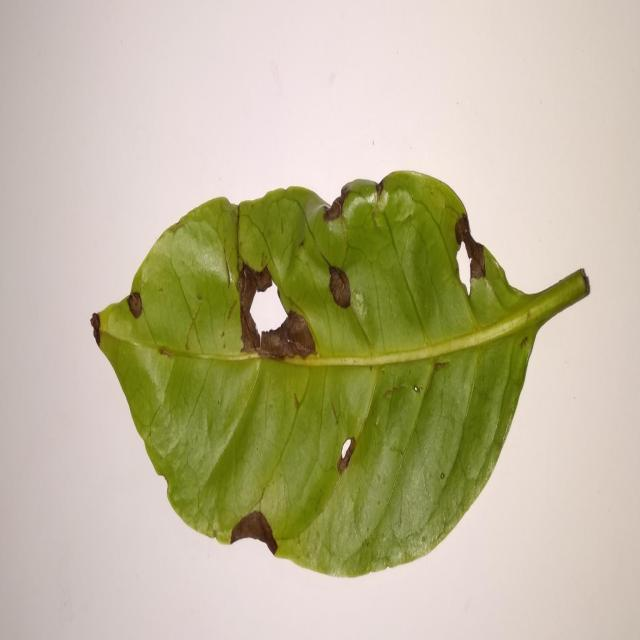Enfermedad-Antracnosis: (89, 172, 590, 579)
